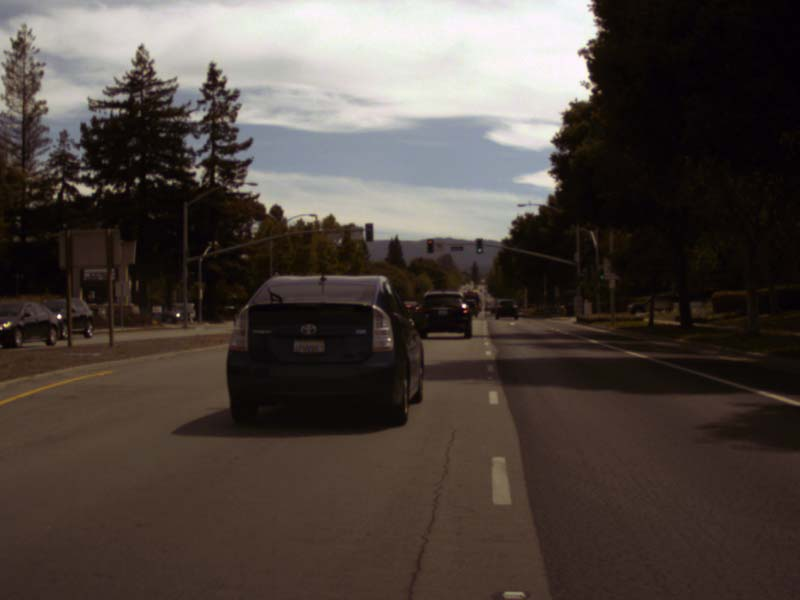Green: (476, 239, 481, 253), (598, 269, 603, 280)
Red: (426, 239, 433, 253)
